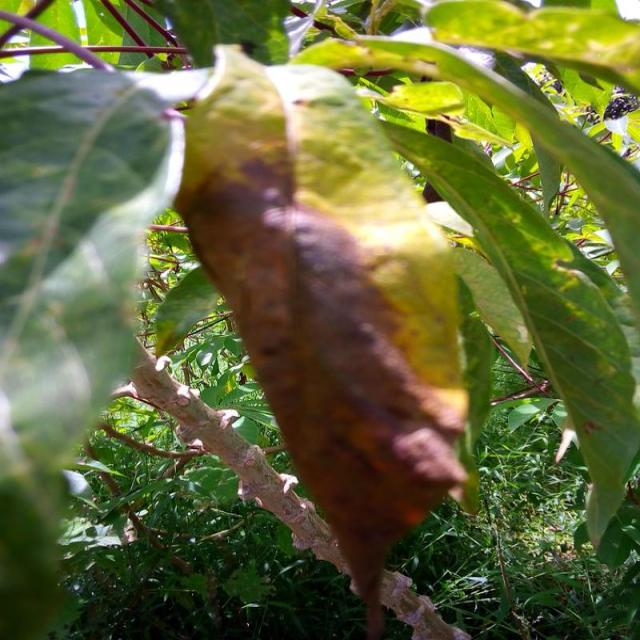cassava leaf: (2, 5, 640, 636), (171, 41, 477, 634), (377, 111, 640, 549)
